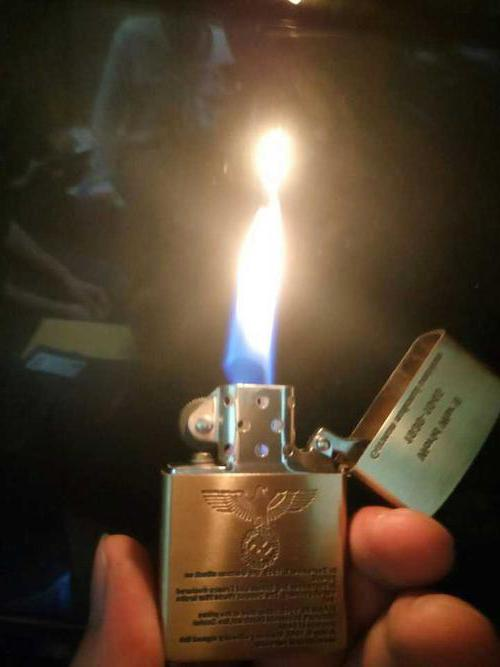fire: (209, 139, 304, 414)
